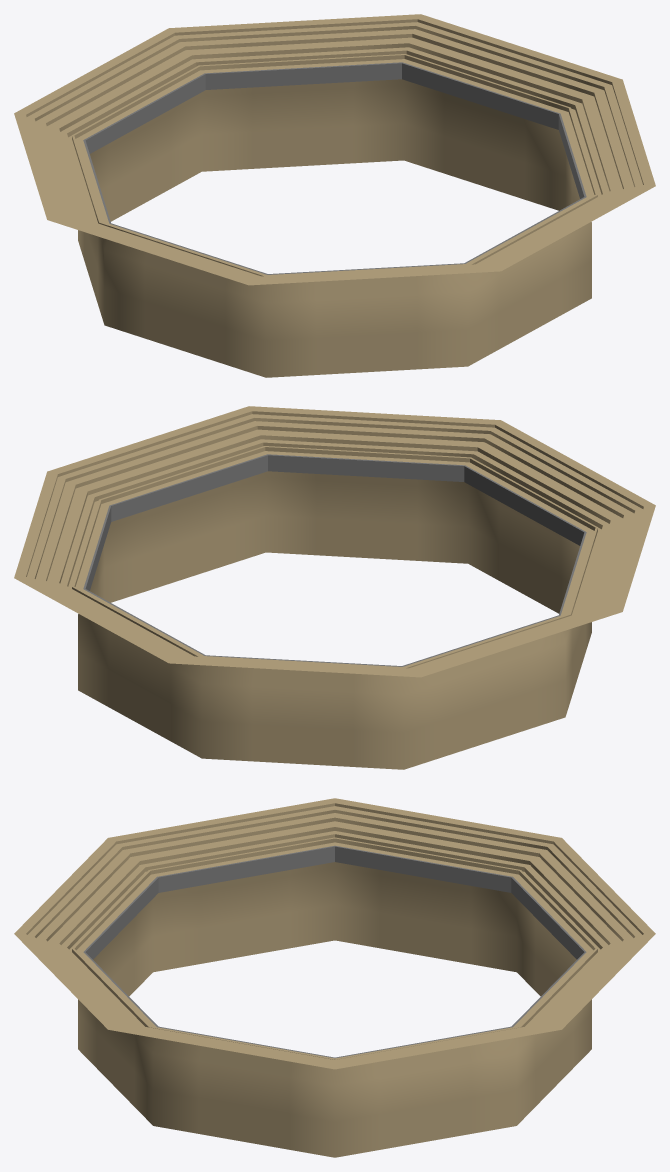
File: colo05.FBX
The picture shows the model from 3 angles, top to bottom: view 1: azimuth 30°, elevation 25°; view 2: azimuth 150°, elevation 25°; view 3: azimuth 270°, elevation 25°; orthographic projection. The views are drawn at different scales.
Parts seen in each view (by area): view 1: colo05; view 2: colo05; view 3: colo05.
Boxes of the visible parts, x1=… form: colo05: x1=14, y1=14, x2=655, y2=377; colo05: x1=14, y1=406, x2=655, y2=769; colo05: x1=14, y1=798, x2=655, y2=1157.
Bounding box in the file's own units: 39765 × 7881 × 39765.
